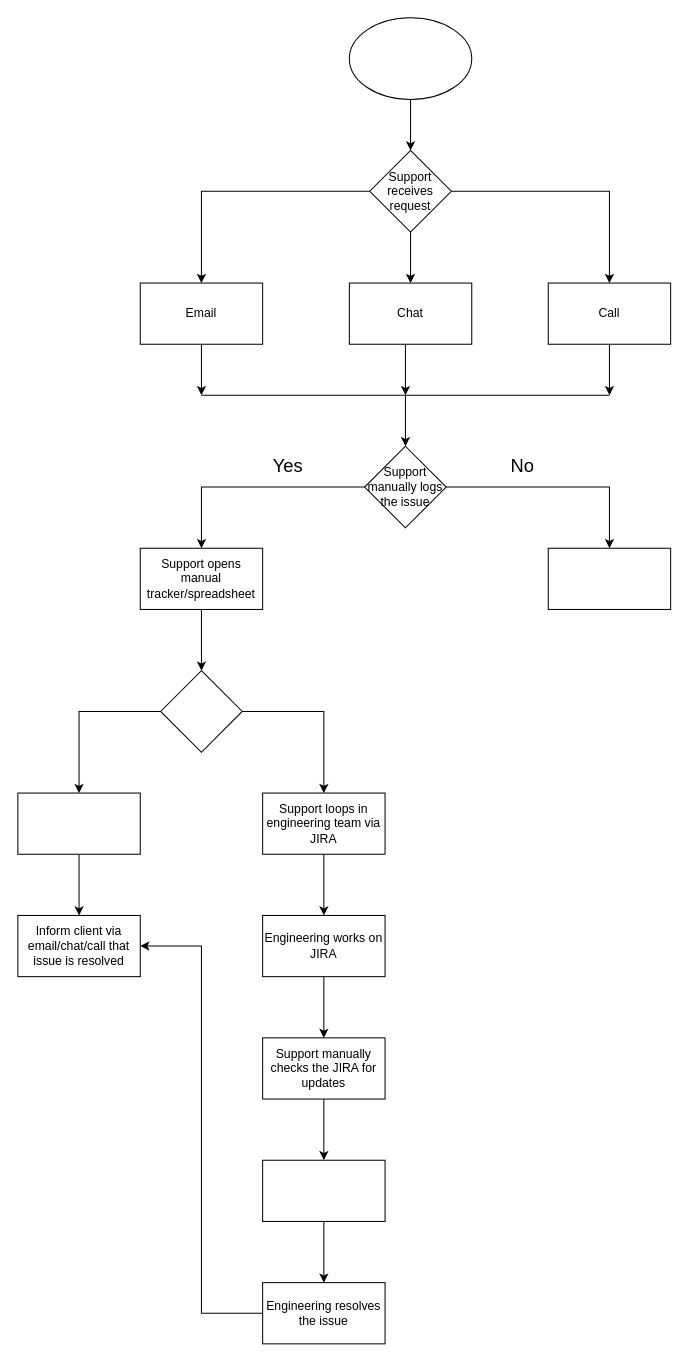
The diagram is 689 pixels wide and 1362 high, and some of its shapes have lost their labels. Here are the shapes that lost their labels. From the top down, the centre of each, then its label:
point (410, 58): Customer reports issue
point (609, 578): Risk: Data lost (No tracking)
point (201, 711): Support performs RCA
point (78, 823): Support is able to resolve the issue using Retool
point (323, 1190): Support email status updates to client
